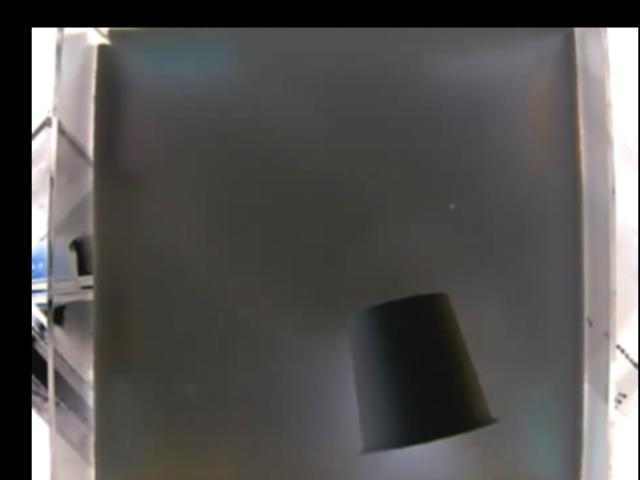Cup: (350, 291, 501, 454)
